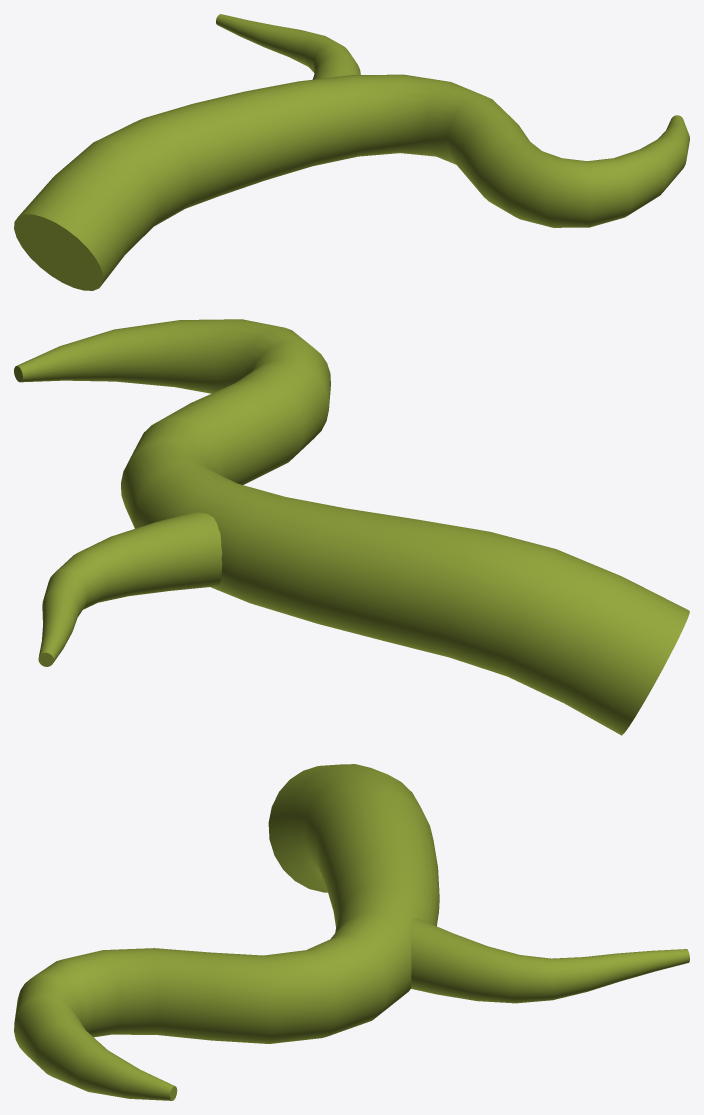
File: vine3.fbx
The picture shows the model from 3 angles, top to bottom: view 1: azimuth 30°, elevation 25°; view 2: azimuth 150°, elevation 25°; view 3: azimuth 270°, elevation 25°; orthographic projection. The views are drawn at different scales.
Visible parts, largest first — view 1: Plane.015; view 2: Plane.015; view 3: Plane.015.
Boxes of the visible parts, x1,y1,x2,y2 form: Plane.015: (14, 14, 689, 290); Plane.015: (14, 319, 689, 735); Plane.015: (14, 764, 689, 1100).
Bounding box in the file's own units: 915 × 199 × 779.
